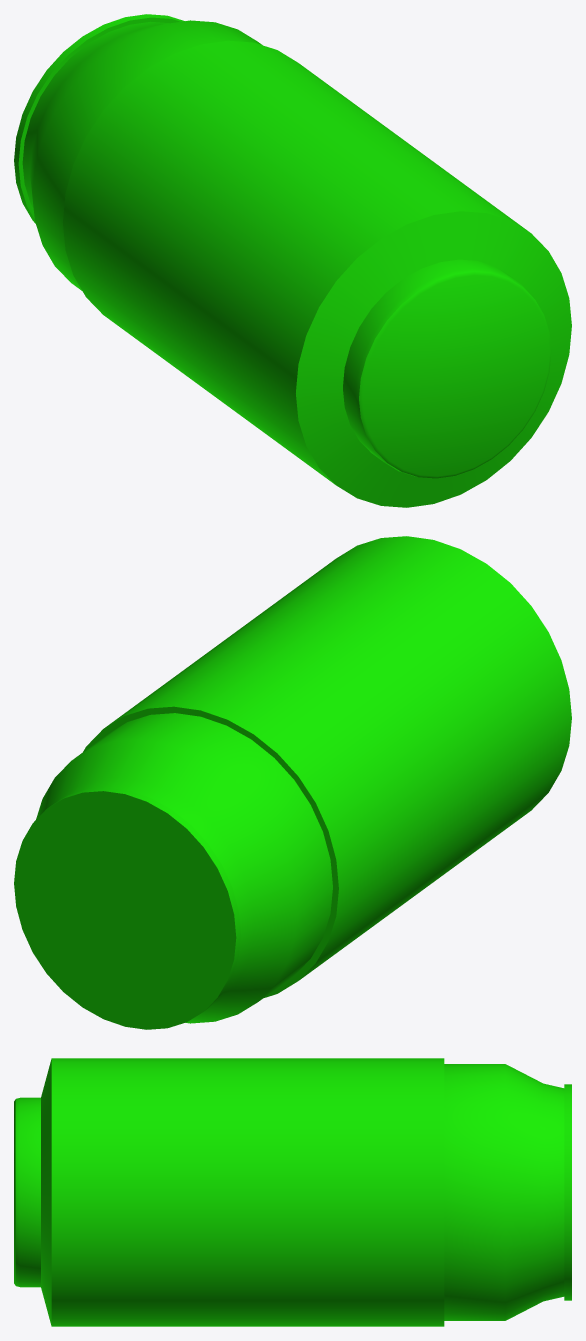
Rendered from komono16.fbx.
3 renders of one model, top to bottom at view 1: azimuth 30°, elevation 25°; view 2: azimuth 150°, elevation 25°; view 3: azimuth 270°, elevation 25°, orthographic. The views are drawn at different scales.
Parts seen in each view (by area): view 1: Cylinder.010; view 2: Cylinder.010; view 3: Cylinder.010.
Part boxes in pixels (<box>): Cylinder.010: <box>14,14,571,507</box>; Cylinder.010: <box>14,536,571,1029</box>; Cylinder.010: <box>14,1058,571,1326</box>.
Size of the model in its own units: 161 by 161 by 333.
